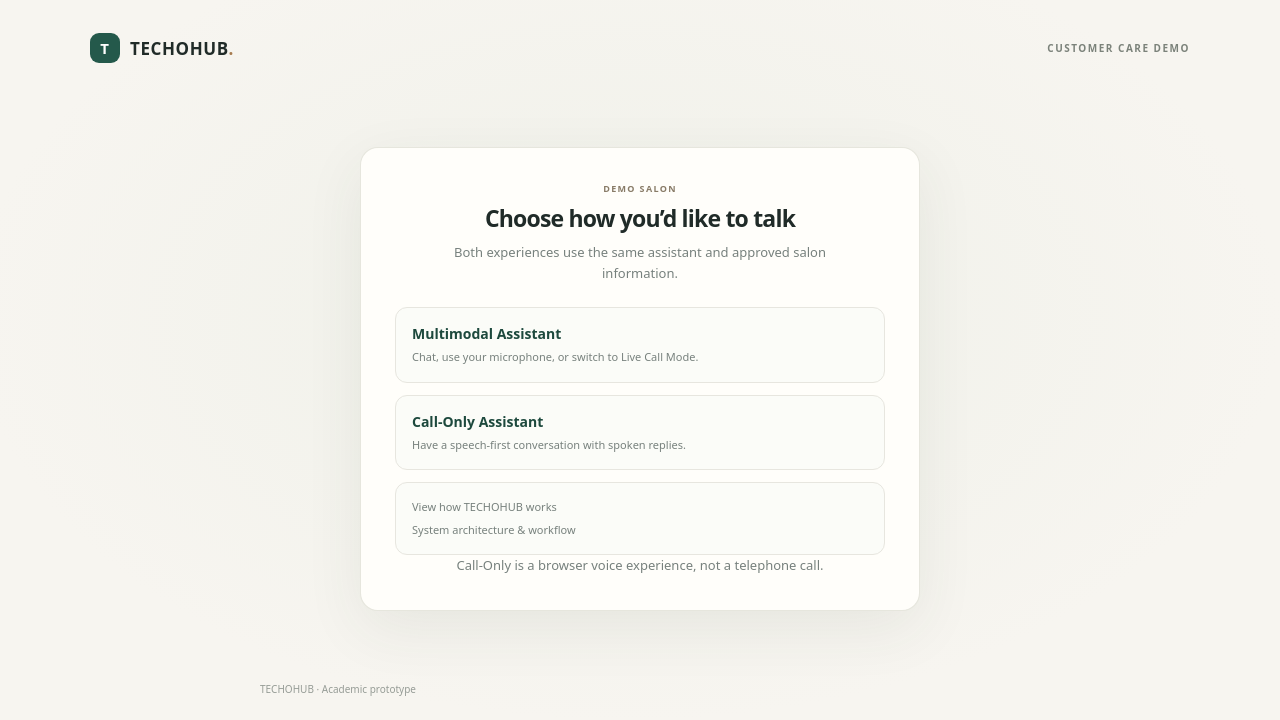
Test: browser text chat › cancels TTS on a mode switch without triggering a Live Call restart
Later steps or results of the test are not shown.
Click the button "Multimodal Assistant". click: (487, 334)
box: [395,307,885,383]
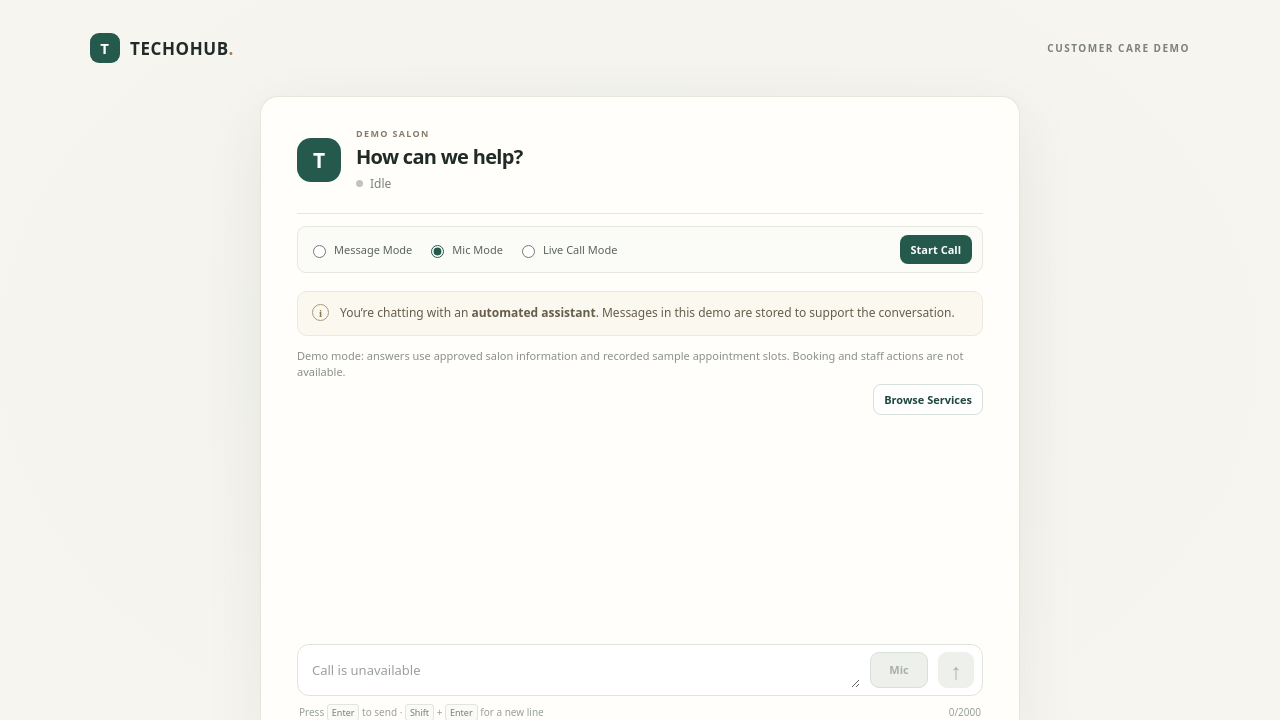
Click the radio button labelled "Mic Mode". click: (438, 251)
box: [431,244,444,258]
Click the button "Start Call". click: (936, 250)
box: [900,235,972,264]
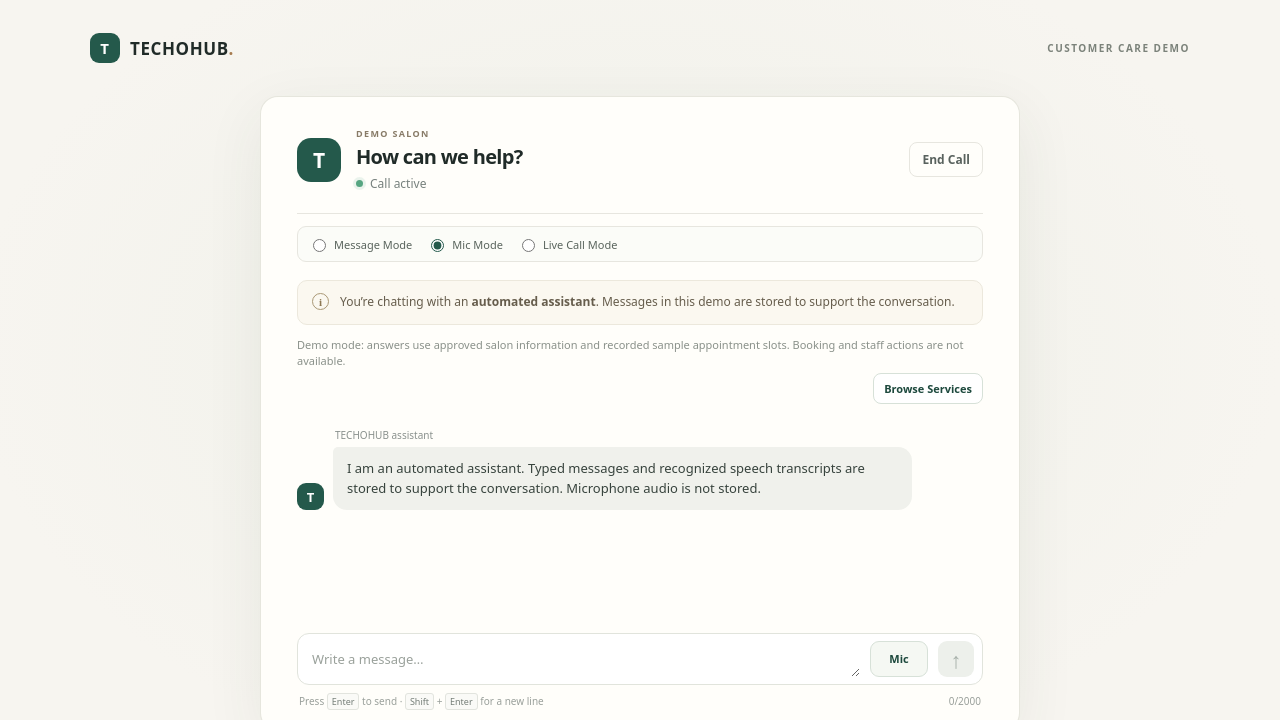
Now the button "End Call" is shown, box [910,142,983,177]
Now the text box named "Your message" is enabled, box [312,643,860,677]
Click the button with aria-label "Start voice input". click: (899, 659)
box: [870,641,928,677]
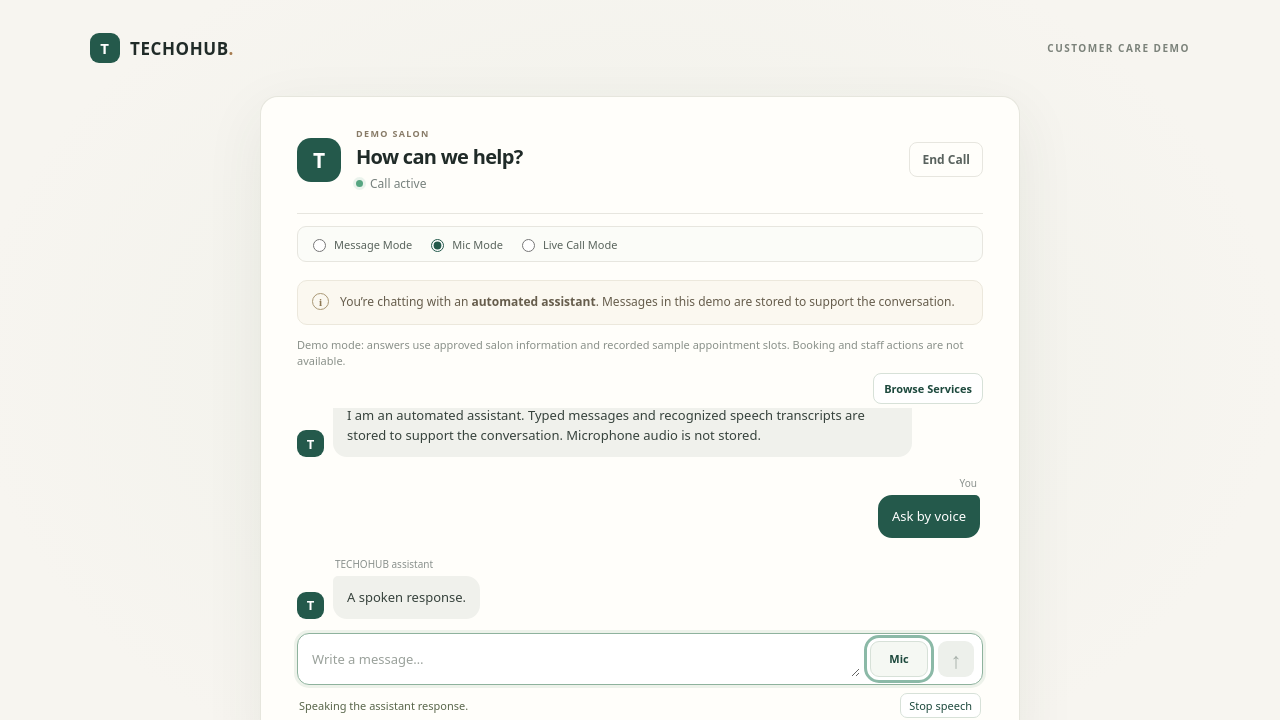
Now the text "A spoken response." is shown, box [333,576,480,619]
